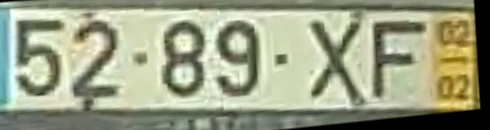2: (68, 16, 123, 100)
5: (13, 17, 65, 99)
8: (157, 17, 208, 100)
9: (210, 18, 261, 101)
F: (370, 19, 430, 103)
X: (304, 17, 364, 102)
